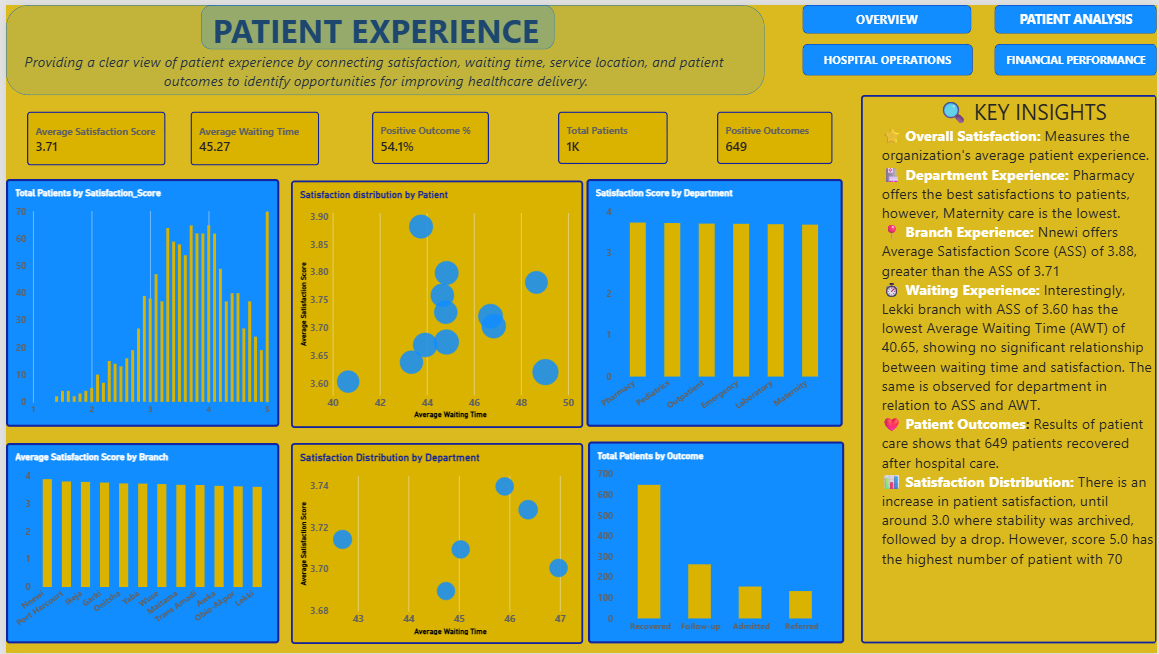

What the dashboard file says about the page in this screenshot:
{"tool":"powerbi","page":{"name":"PATIENT EXPERIENCE","canvas":[2560,1440],"ordinal":4},"visuals":[{"type":"cardVisual","fields":{"Data":["Date_Table.Average Satisfaction Score"]},"box":[47.7,235.4,308.6,120.9],"z":0},{"type":"clusteredColumnChart","title":"Satisfaction Score by Department","fields":{"Category":["Patient_Visits.Department"],"Y":["Date_Table.Average Satisfaction Score"]},"box":[1291.6,388.1,569.4,550.4],"z":1000},{"type":"clusteredColumnChart","fields":{"Category":["Patient_Visits.Branch"],"Y":["Date_Table.Average Satisfaction Score"]},"box":[0,973.5,607.6,445.4],"z":2000},{"type":"scatterChart","title":"Satisfaction distribution by Patient","fields":{"Category":["Patient_Visits.Branch"],"Size":["Date_Table.Total Patients"],"X":["Date_Table.Average Waiting Time"],"Y":["Date_Table.Average Satisfaction Score"]},"box":[632.4,389,649,550],"z":3000},{"type":"clusteredColumnChart","fields":{"Category":["Patient_Visits.Outcome"],"Y":["Date_Table.Total Patients"]},"box":[1294.8,970.3,569.4,448.6],"z":4000},{"type":"cardVisual","fields":{"Data":["Date_Table.Average Waiting Time"]},"box":[410.4,235.4,286.3,120.9],"z":5000},{"type":"cardVisual","fields":{"Data":["Date_Table.Total Patients"]},"box":[1228,235.4,245,117.7],"z":6000},{"type":"cardVisual","fields":{"Data":["Date_Table.Positive Outcomes"]},"box":[1581.1,235.4,257.7,117.7],"z":7000},{"type":"cardVisual","fields":{"Data":["Date_Table.Positive Outcome %"]},"box":[814.4,235.4,260.9,117.7],"z":8000},{"type":"textbox","box":[0,6.4,1644.7,194.1],"z":9000},{"type":"shape","box":[432.6,0,785.8,98.6],"z":10000},{"type":"shape","box":[0,0,1686,200.4],"z":11000},{"type":"scatterChart","title":"Satisfaction Distribution by Department","fields":{"Category":["Patient_Visits.Department"],"Size":["Date_Table.Total Patients"],"X":["Date_Table.Average Waiting Time"],"Y":["Date_Table.Average Satisfaction Score"]},"box":[632.4,973.4,649,446.9],"z":12000},{"type":"clusteredColumnChart","fields":{"Category":["Patient_Visits.Satisfaction_Score"],"Y":["Date_Table.Total Patients"]},"box":[0,388.1,607.6,550.4],"z":13000},{"type":"actionButton","box":[2198.2,85.9,362.7,70],"z":14000},{"type":"actionButton","box":[2198.2,0,362.7,63.6],"z":15000},{"type":"actionButton","box":[1768.8,85.9,378.6,70],"z":16000},{"type":"actionButton","box":[1768.8,0,375.4,63.6],"z":17000},{"type":"textbox","box":[1900.1,200.4,658.5,1218.4],"z":18000}]}

Visuals, with their boxes in screenshot pixels (x1, y1, x2, y2), scaled from the page's 2560x1440 canvas onto the 1159x654 screenshot:
cardVisual - Date_Table.Average Satisfaction Score: x1=22, y1=107, x2=161, y2=162
"Satisfaction Score by Department" clusteredColumnChart: x1=585, y1=176, x2=843, y2=426
clusteredColumnChart - Patient_Visits.Branch x Date_Table.Average Satisfaction Score: x1=0, y1=442, x2=275, y2=644
"Satisfaction distribution by Patient" scatterChart: x1=286, y1=177, x2=580, y2=426
clusteredColumnChart - Patient_Visits.Outcome x Date_Table.Total Patients: x1=586, y1=441, x2=844, y2=644
cardVisual - Date_Table.Average Waiting Time: x1=186, y1=107, x2=315, y2=162
cardVisual - Date_Table.Total Patients: x1=556, y1=107, x2=667, y2=160
cardVisual - Date_Table.Positive Outcomes: x1=716, y1=107, x2=832, y2=160
cardVisual - Date_Table.Positive Outcome %: x1=369, y1=107, x2=487, y2=160
textbox: x1=0, y1=3, x2=745, y2=91
shape: x1=196, y1=0, x2=552, y2=45
shape: x1=0, y1=0, x2=763, y2=91
"Satisfaction Distribution by Department" scatterChart: x1=286, y1=442, x2=580, y2=645
clusteredColumnChart - Patient_Visits.Satisfaction_Score x Date_Table.Total Patients: x1=0, y1=176, x2=275, y2=426
actionButton: x1=995, y1=39, x2=1158, y2=71
actionButton: x1=995, y1=0, x2=1158, y2=29
actionButton: x1=801, y1=39, x2=972, y2=71
actionButton: x1=801, y1=0, x2=971, y2=29
textbox: x1=860, y1=91, x2=1158, y2=644
